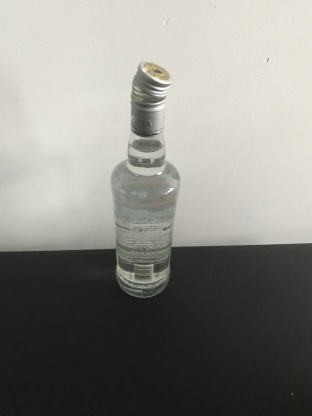nakretka: (129, 60, 173, 137)
